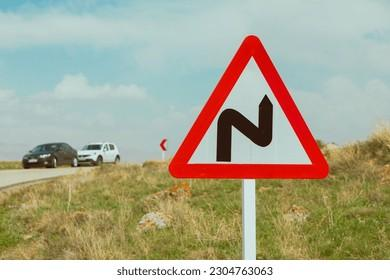Right Reverse Bend: (169, 28, 331, 189)
